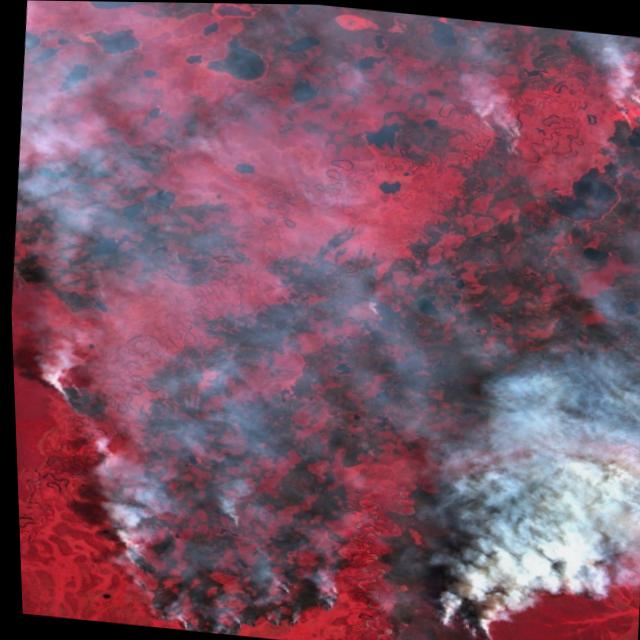fire: (26, 370, 640, 640), (465, 104, 550, 170), (606, 86, 640, 154)
